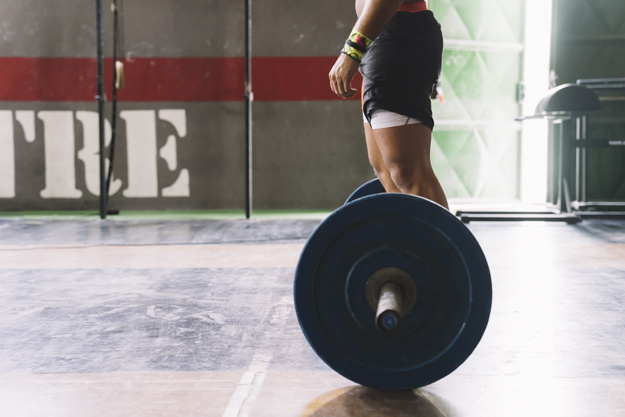barbell: (293, 189, 496, 396)
